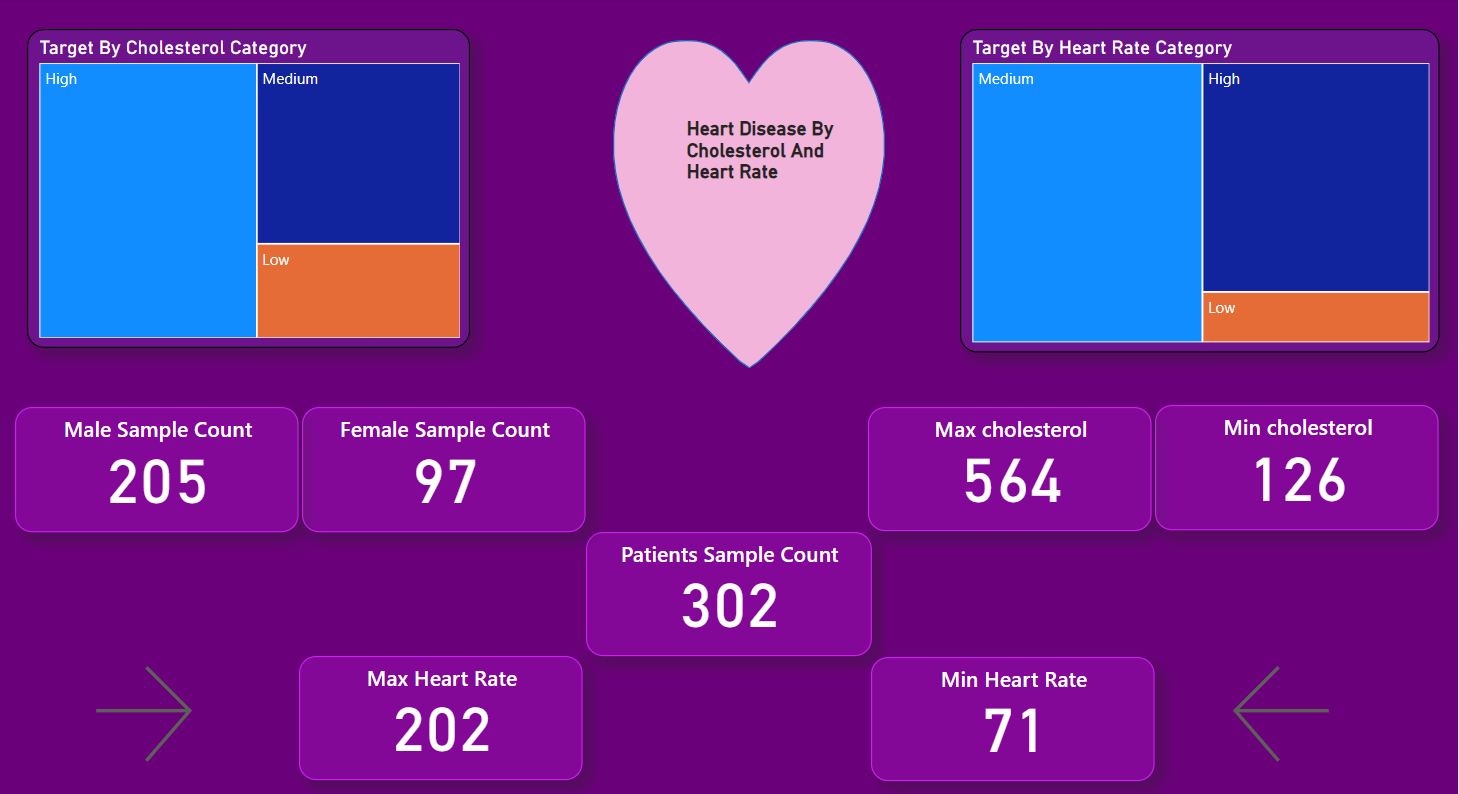

What the dashboard file says about the page in this screenshot:
{"tool":"powerbi","page":{"name":"Page 2","canvas":[1280,720],"ordinal":1},"visuals":[{"type":"card","title":"Male Sample Count","fields":{"Values":["Worksheet.Count of sex for 1"]},"box":[13.4,359.1,249.2,109.9],"z":1000},{"type":"card","title":"Patients Sample Count","fields":{"Values":["CountNonNull(Worksheet.sex)"]},"box":[514.6,469,250.6,108.5],"z":2000},{"type":"card","title":"Female Sample Count","fields":{"Values":["Worksheet.Count of sex for 0"]},"box":[265.3,359.1,249.2,109.9],"z":3000},{"type":"card","title":"Max cholesterol","fields":{"Values":["Measure.Max Cholesterol"]},"box":[762.5,359.1,249.2,108.5],"z":4000},{"type":"card","title":"Min cholesterol","fields":{"Values":["Measure.Min cholesteror"]},"box":[1014.4,357.8,249.2,109.9],"z":5000},{"type":"donutChart","title":"Target By Cholesterol Category","fields":{"Y":["CountNonNull(Worksheet.target)"],"Category":["Worksheet.Cholesterol Category"]},"box":[67,45.6,390,280.1],"z":6000},{"type":"donutChart","title":"Target By Heart Rate Category","fields":{"Y":["CountNonNull(Worksheet.target)"],"Category":["Worksheet.Heart Rate Category"]},"box":[833.5,46.9,390,278.7],"z":7000},{"type":"card","title":"Min Heart Rate","fields":{"Values":["Measure.Min Heart Rate"]},"box":[765.2,578.9,249.2,108.5],"z":8000},{"type":"card","title":"Max Heart Rate","fields":{"Values":["Measure.Max Heart Rate"]},"box":[262.7,577.6,249.2,108.5],"z":9000},{"type":"actionButton","box":[75,577.6,124.6,101.8],"z":12000},{"type":"actionButton","box":[1074.7,577.6,124.6,101.8],"z":13000},{"type":"shape","title":"Target By Cholesterol And Heart Rate","box":[538.2,37.3,238.6,288.4],"z":14000},{"type":"textbox","title":"Heart Disease     By Cholesterol And Heart Rate","box":[597.9,104.4,144.2,124.3],"z":15000}]}

Visuals, with their boxes on the page's 1280x720 design canvas (x1, y1, x2, y2). These are canvas units, not pixel positions in the 1459x794 screenshot, which may show the page scaled, cropped or inside an application window:
"Male Sample Count" card: (13,359,263,469)
"Patients Sample Count" card: (515,469,765,578)
"Female Sample Count" card: (265,359,514,469)
"Max cholesterol" card: (762,359,1012,468)
"Min cholesterol" card: (1014,358,1264,468)
"Target By Cholesterol Category" donutChart: (67,46,457,326)
"Target By Heart Rate Category" donutChart: (834,47,1224,326)
"Min Heart Rate" card: (765,579,1014,687)
"Max Heart Rate" card: (263,578,512,686)
actionButton: (75,578,200,679)
actionButton: (1075,578,1199,679)
"Target By Cholesterol And Heart Rate" shape: (538,37,777,326)
"Heart Disease     By Cholesterol And Heart Rate" textbox: (598,104,742,229)
